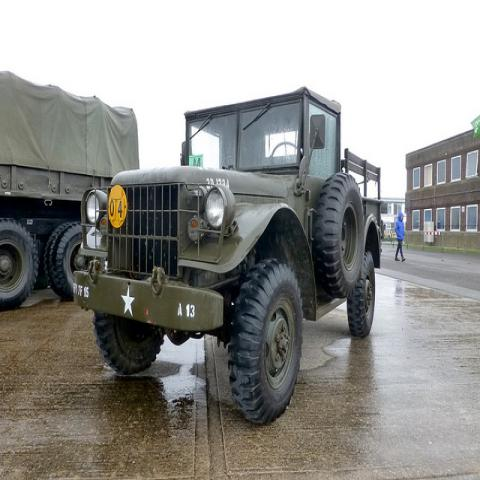truck: (77, 88, 385, 418), (0, 72, 140, 310)
